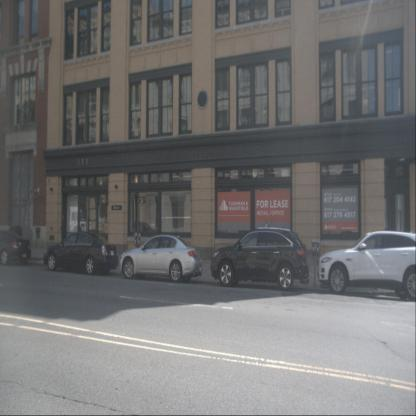movable_object-trafficcone: (321, 244, 327, 266)
vehicle-car: (318, 231, 416, 301), (211, 228, 309, 290), (120, 235, 202, 284), (44, 232, 118, 275), (0, 230, 31, 266)
